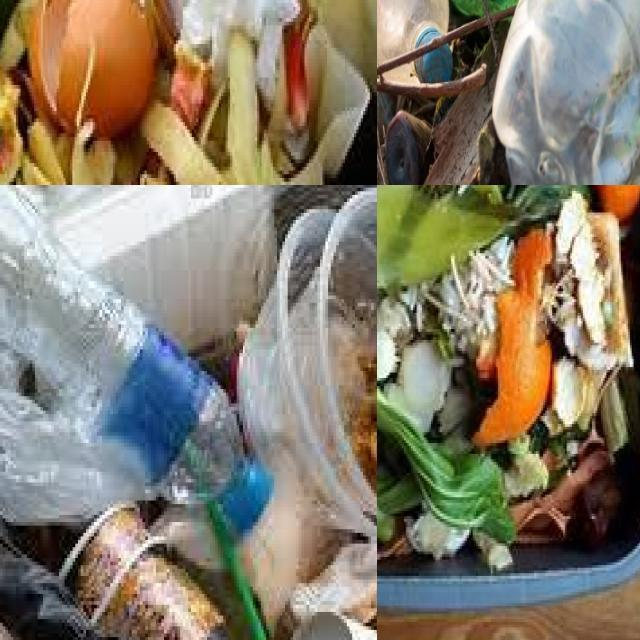Disposable: (239, 185, 377, 537), (48, 185, 276, 350), (60, 504, 230, 640), (340, 619, 377, 640)
Garbage: (0, 185, 377, 640), (377, 185, 640, 568), (377, 0, 640, 185)
Plastic: (386, 111, 432, 185)
Plastic_Bag: (0, 385, 146, 525)
Plastic_Straw: (207, 500, 269, 640)
Plastic_bottle: (0, 185, 273, 532), (493, 0, 640, 185), (388, 44, 452, 83), (451, 0, 483, 15)
